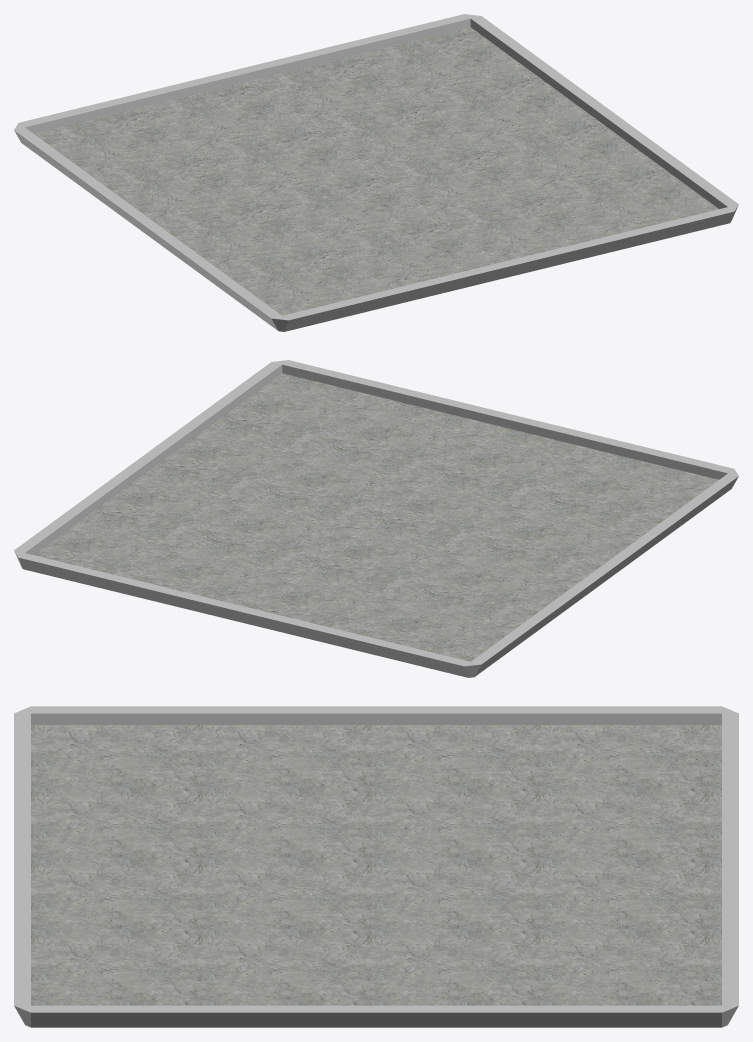
Rendered from Roof_Type_B08.fbx.
3 renders of one model, top to bottom at view 1: azimuth 30°, elevation 25°; view 2: azimuth 150°, elevation 25°; view 3: azimuth 270°, elevation 25°, orthographic. The views are drawn at different scales.
Visible parts, largest first — view 1: Roof_Type_B08; view 2: Roof_Type_B08; view 3: Roof_Type_B08.
Part boxes in pixels (x1,y1,x2,y2): Roof_Type_B08: (14,14,738,331); Roof_Type_B08: (14,360,738,677); Roof_Type_B08: (14,706,738,1027).
Size of the model in its own units: 1074 by 32 by 1074.
